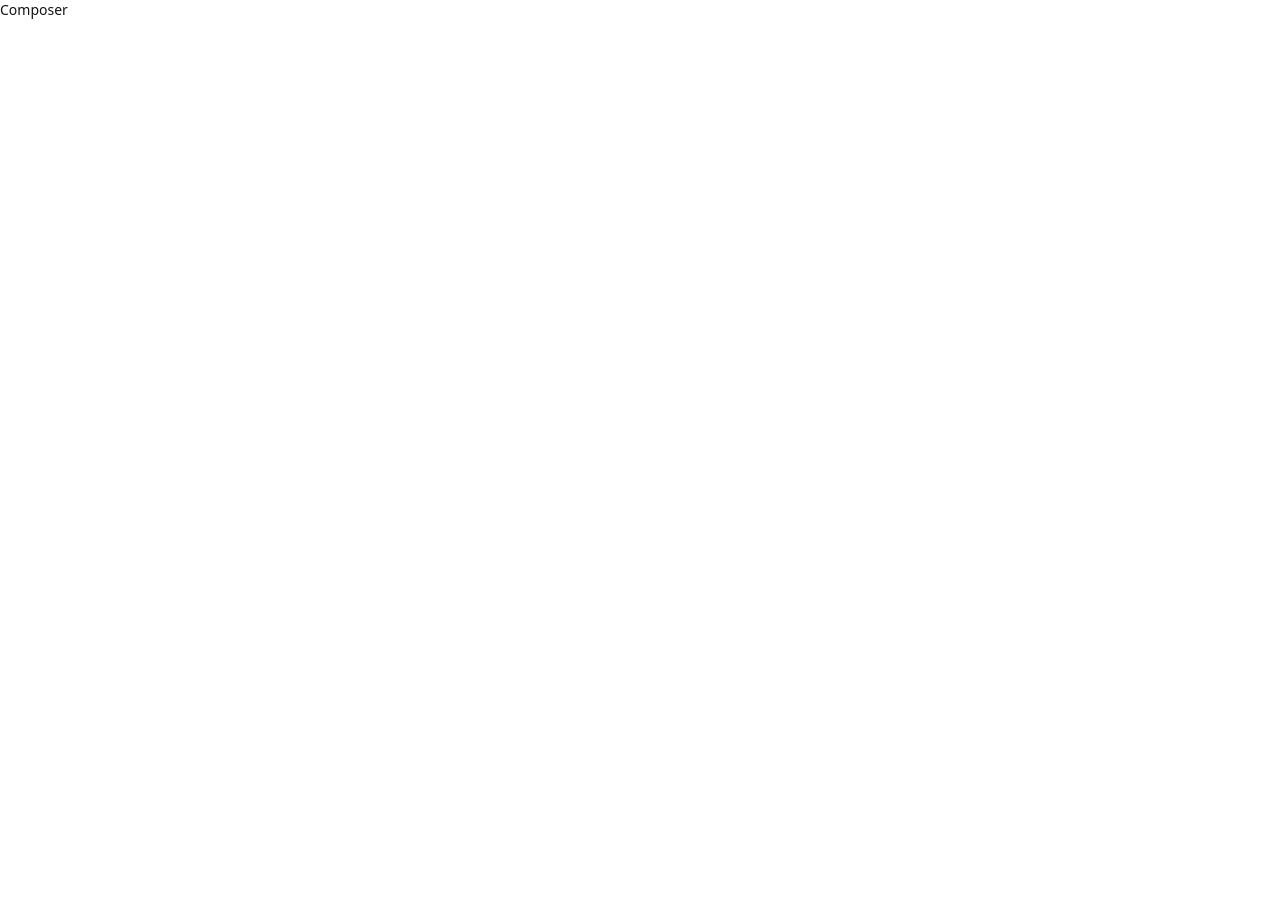
Test: CommandPalette › says when nothing matches
Press k
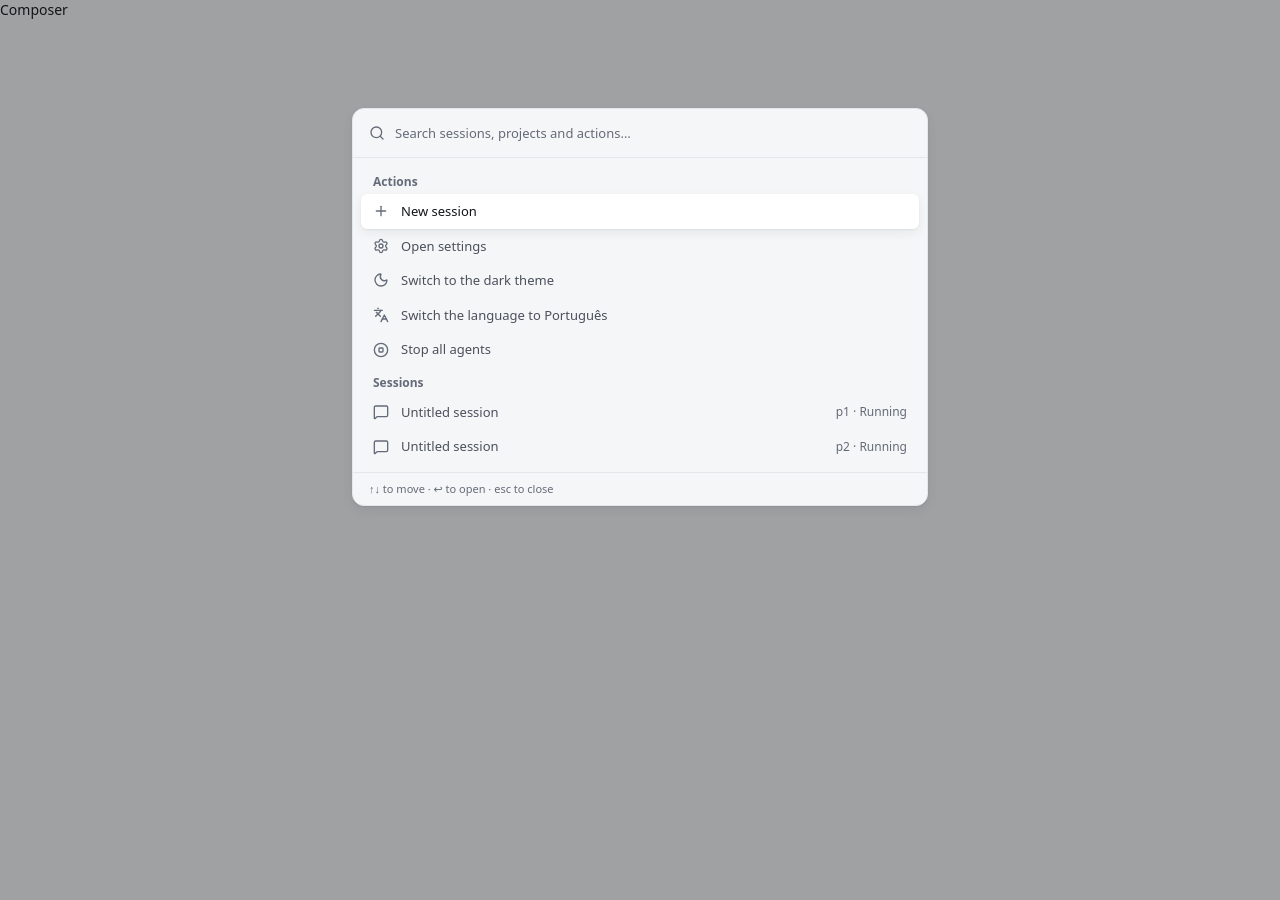
Type "zzzz" into the dropdown named "Command palette" at (653, 133), box [395,109,911,157]
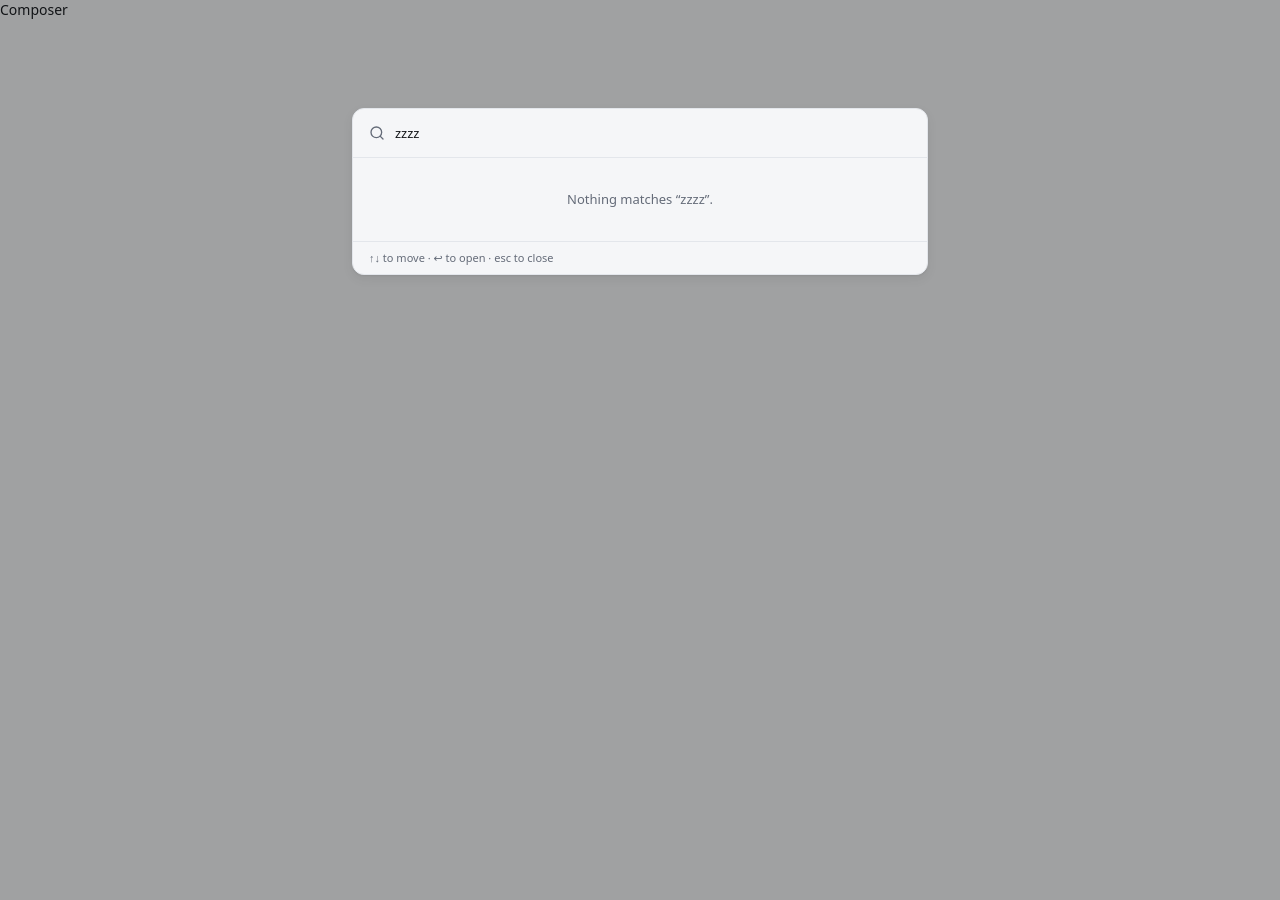
Check: the text "Nothing matches “zzzz”." is shown, box [567,190,713,208]
